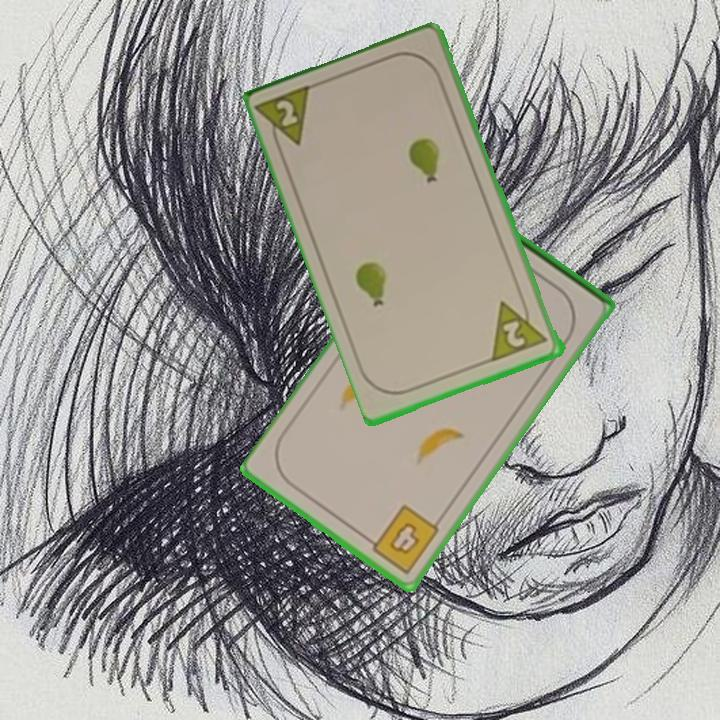2p: (255, 81, 318, 157), (489, 291, 551, 364)
4b: (362, 501, 443, 578)
